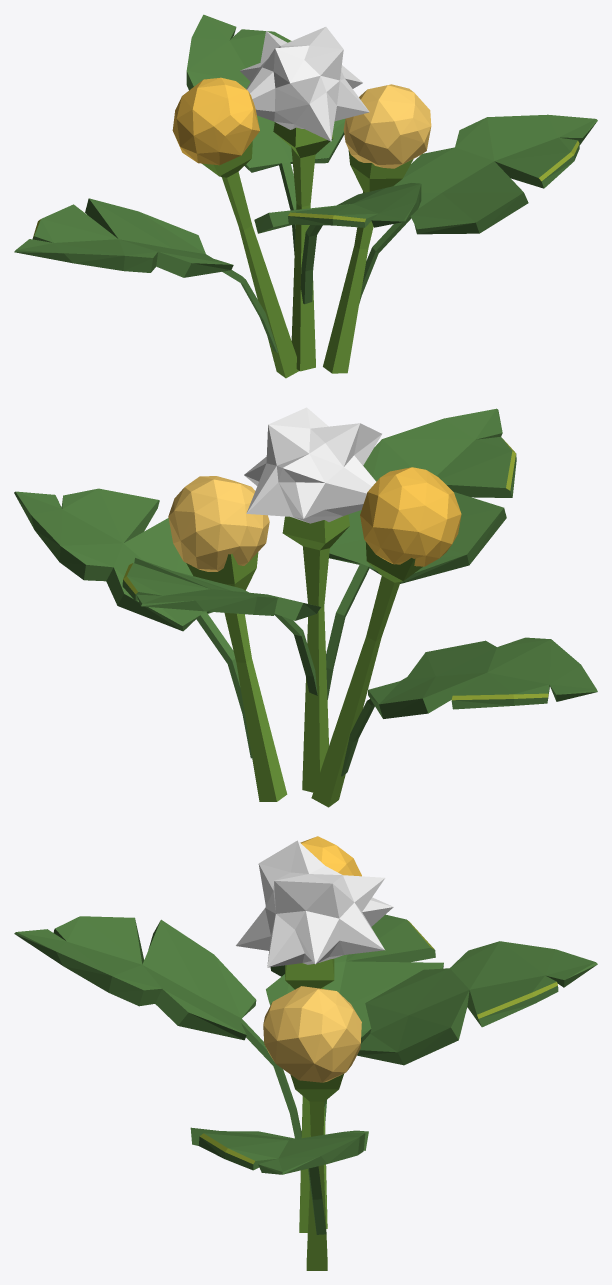
File: EA_M_Env_Flower_01a.fbx
The picture shows the model from 3 angles, top to bottom: view 1: azimuth 30°, elevation 25°; view 2: azimuth 150°, elevation 25°; view 3: azimuth 270°, elevation 25°; orthographic projection. The views are drawn at different scales.
Visible parts, largest first — view 1: EA_M_Env_Flower_01a_LOD0; view 2: EA_M_Env_Flower_01a_LOD0; view 3: EA_M_Env_Flower_01a_LOD0.
Part boxes in pixels (x1,y1,x2,y2): EA_M_Env_Flower_01a_LOD0: (14, 14, 597, 378); EA_M_Env_Flower_01a_LOD0: (14, 407, 597, 807); EA_M_Env_Flower_01a_LOD0: (14, 836, 597, 1270).
Size of what is drawn, in the model's own units: 1.15 by 0.6898 by 0.9396.
